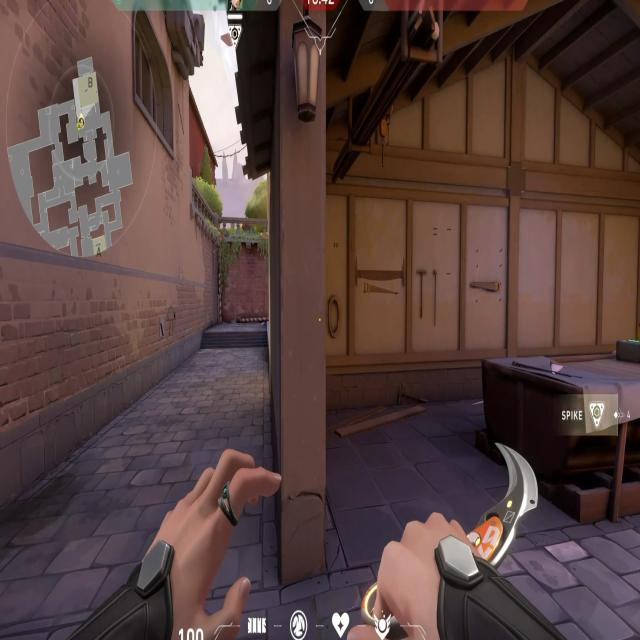Throwables: (130, 1, 182, 162)
